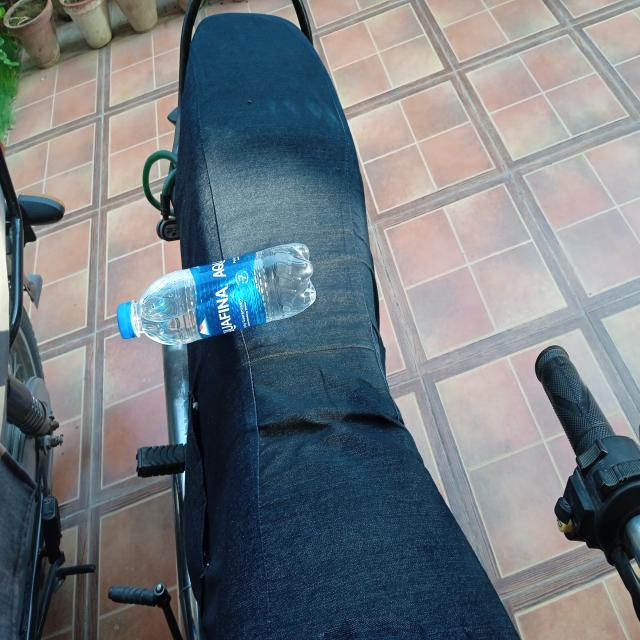Plastic: (120, 242, 317, 345)
